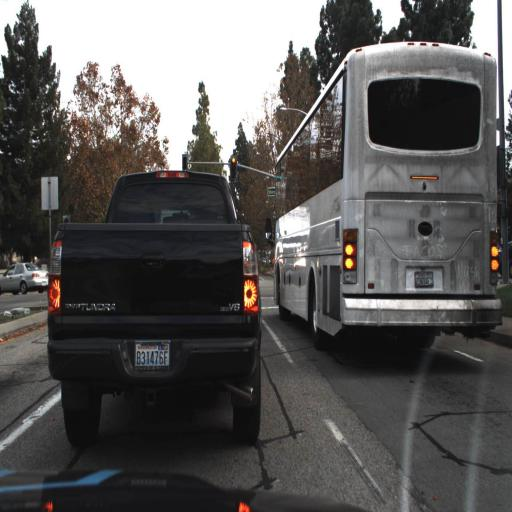car: (52, 172, 257, 432), (0, 258, 50, 296)
trafficLight: (182, 153, 188, 172), (61, 214, 71, 224)
trafficLight-Red: (228, 156, 238, 180)
truck: (272, 41, 498, 351)
